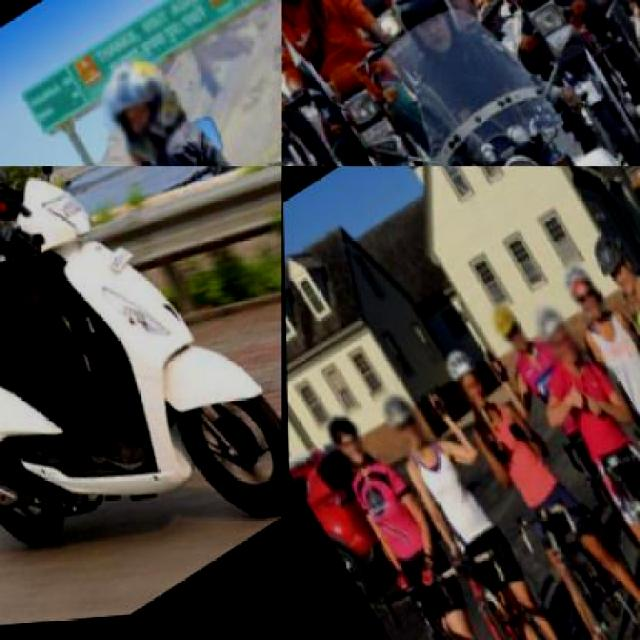With Helmet: (82, 44, 198, 164), (369, 0, 478, 83), (368, 374, 435, 464), (574, 222, 638, 316), (520, 293, 588, 381), (430, 333, 496, 419), (308, 397, 375, 477), (551, 254, 612, 332), (479, 298, 532, 362)
